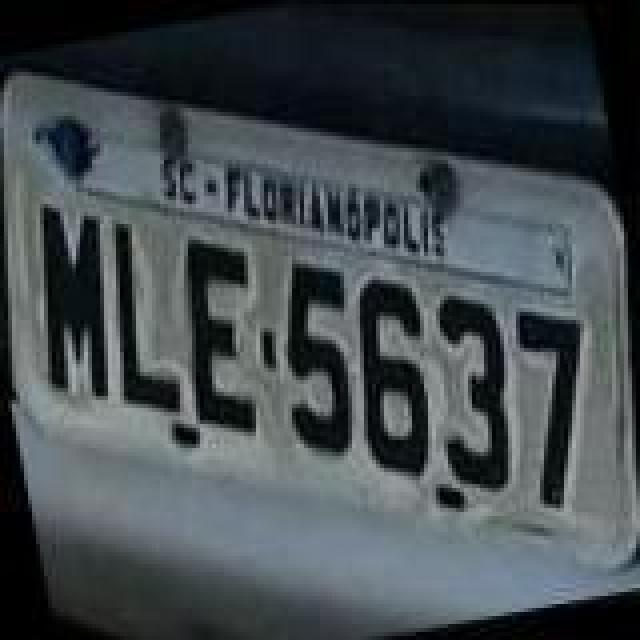3: (412, 284, 532, 504)
5: (262, 244, 378, 464)
6: (336, 266, 456, 490)
7: (502, 292, 618, 516)
E: (164, 226, 284, 450)
L: (86, 210, 186, 430)
M: (10, 196, 134, 412)
